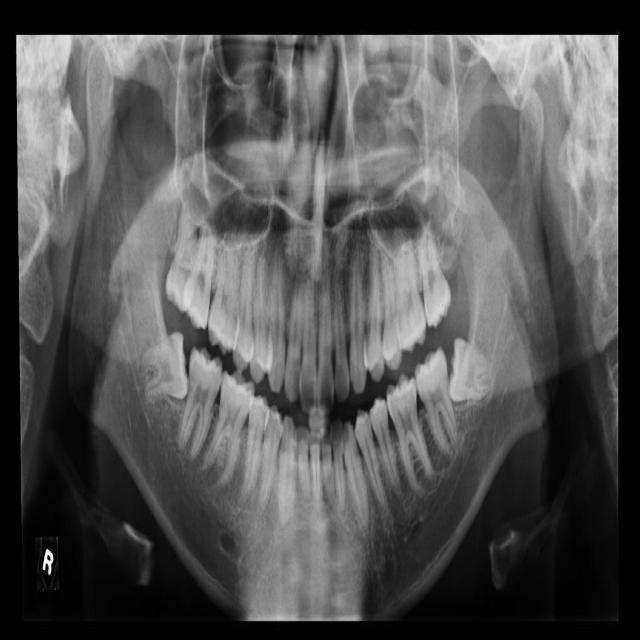3M ESPE Implant: (160, 212, 208, 315)
73: (598, 582, 604, 594)
BioHorizons Implant: (413, 216, 456, 329)
Biomet 3i Implant: (445, 337, 498, 406)
Blue Sky Bio Implant: (409, 345, 462, 462)
Caries: (181, 209, 222, 331)
Implant: (175, 344, 227, 463)
Keystone Dental Implant: (137, 331, 190, 403)
